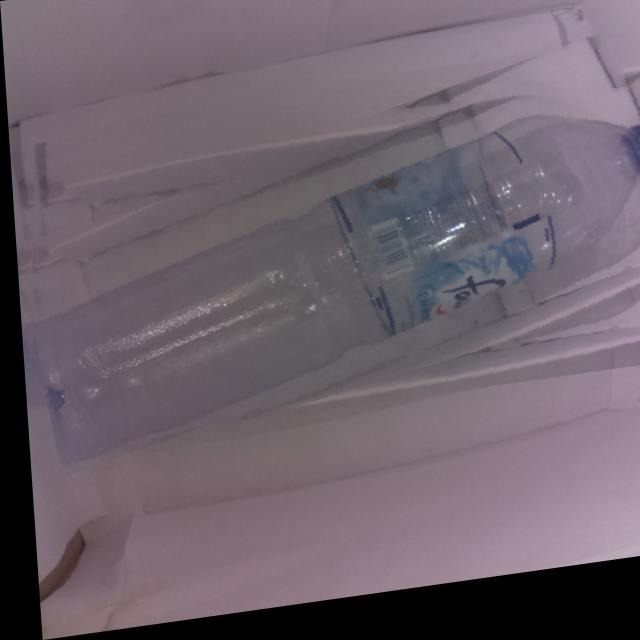litter: (8, 75, 640, 450)
